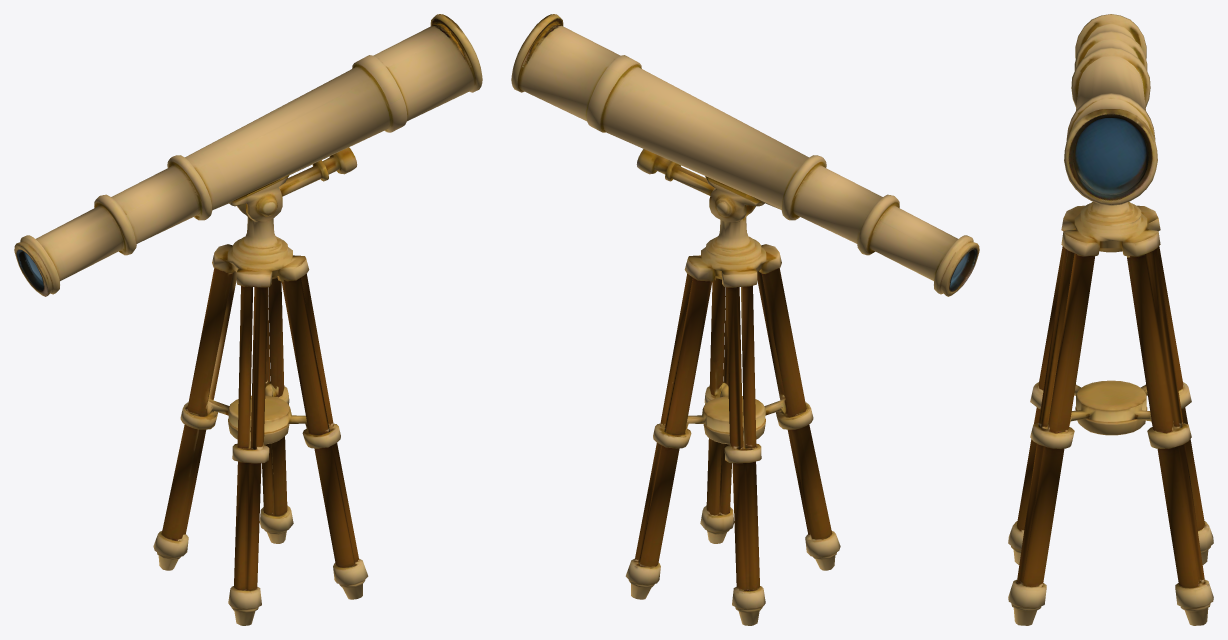
Rendered from Decor__a_brass_telescope_4a2de8bd_v1.cluster.glb.
3 renders of one model, left to right at view 1: azimuth 30°, elevation 25°; view 2: azimuth 150°, elevation 25°; view 3: azimuth 270°, elevation 25°, orthographic. The views are drawn at different scales.
Parts seen in each view (by area): view 1: material; view 2: material; view 3: material.
Boxes of the visible parts, x1,y1,x2,y2 form: material: [14, 14, 482, 625]; material: [511, 14, 979, 625]; material: [1008, 14, 1213, 625].
Size of the model in its own units: 1.72 by 1.9 by 0.6034.
1 material, 1 textured.
